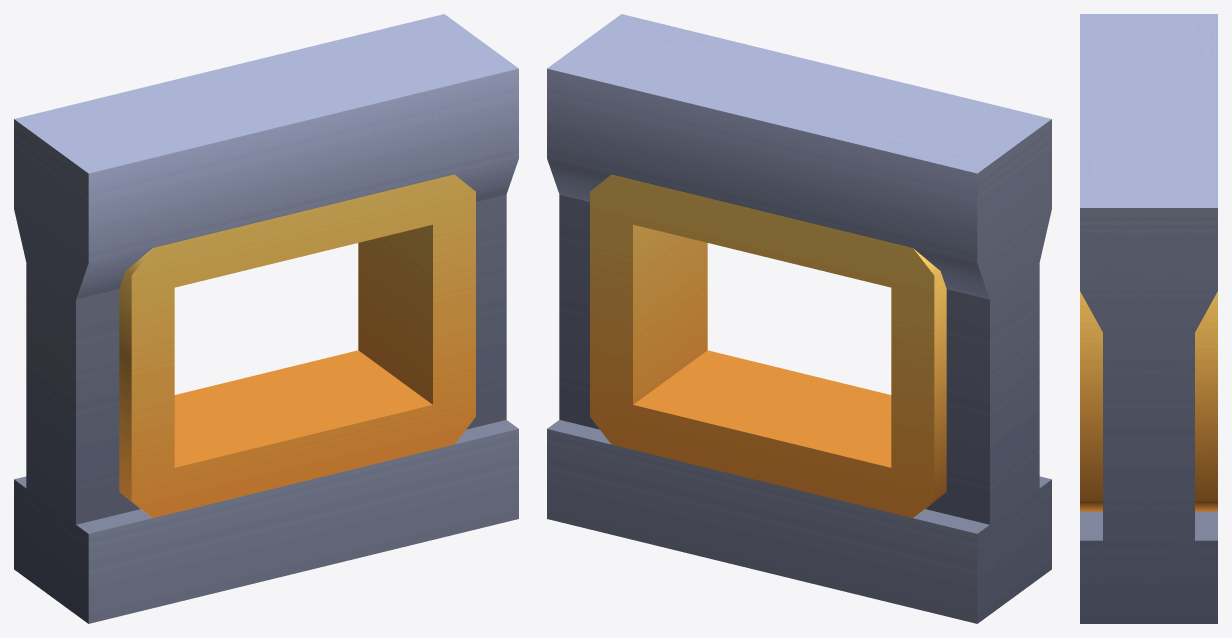
Rendered from wall-window.glb.
3 views of the same model, side by side, from view 1: azimuth 30°, elevation 25°; view 2: azimuth 150°, elevation 25°; view 3: azimuth 270°, elevation 25° (orthographic). The views are drawn at different scales.
Visible parts, largest first — view 1: wall-window; view 2: wall-window; view 3: wall-window.
Boxes of the visible parts, left/top/right/bottom form: wall-window: left=14, top=14, right=518, bottom=623; wall-window: left=547, top=14, right=1051, bottom=623; wall-window: left=1080, top=14, right=1217, bottom=623.
Bounding box in the file's own units: 1 × 1 × 0.3.
Materials: 1 (1 with a texture image).
